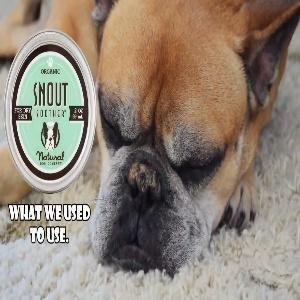keratosis: (123, 157, 160, 205)
